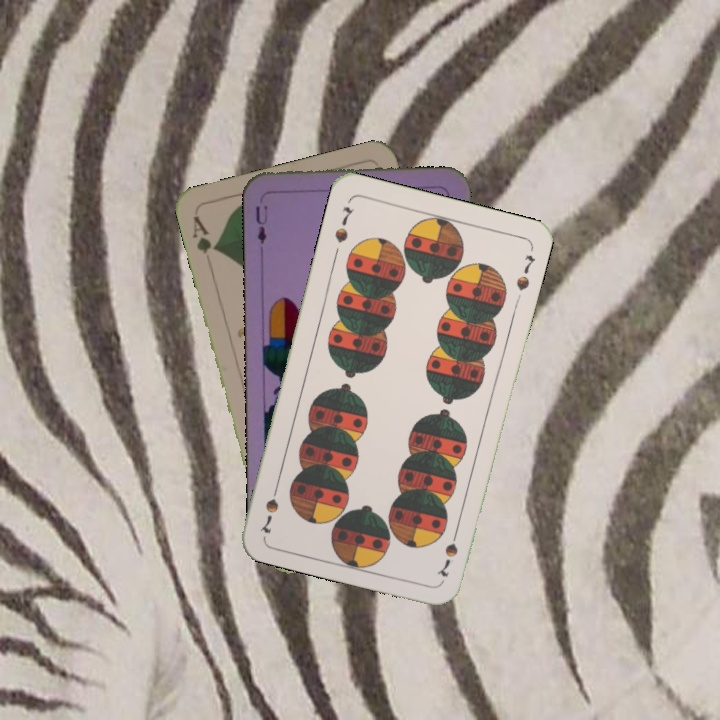EU: (252, 201, 270, 246)
GA: (188, 211, 220, 257)
S7: (433, 524, 461, 580), (330, 202, 357, 246)
